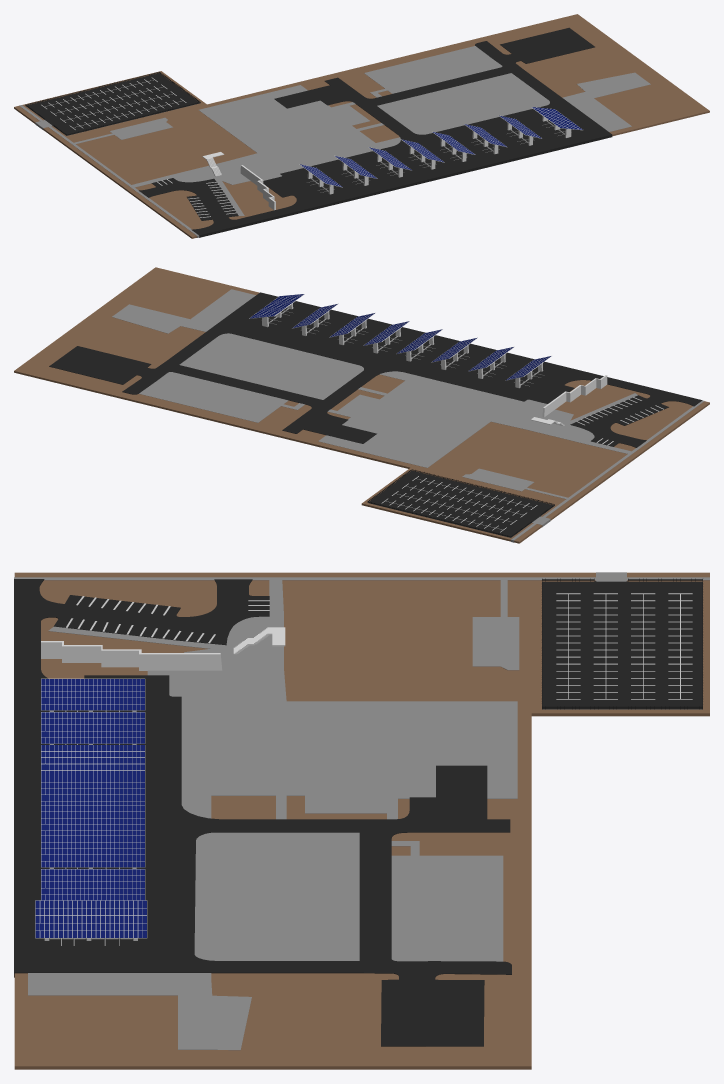
File: thebuilding.glb
3 renders of one model, top to bottom at view 1: azimuth 30°, elevation 25°; view 2: azimuth 150°, elevation 25°; view 3: azimuth 270°, elevation 25°, orthographic. The views are drawn at different scales.
Visible parts, largest first — view 1: sidewalk, gravel, parking, solarpanel, eastlines, solarparking, wall.001; view 2: sidewalk, gravel, parking, solarpanel, wall.001, eastlines, solarparking; view 3: sidewalk, gravel, parking, solarpanel, wall.001, eastlines.
Boxes of the visible parts, x1,y1,x2,y2 form: sidewalk: (19, 46, 650, 237); gravel: (14, 14, 709, 238); parking: (139, 27, 612, 237); solarpanel: (299, 107, 582, 194); eastlines: (41, 77, 186, 129); solarparking: (307, 120, 564, 192); wall.001: (240, 165, 275, 210); sidewalk: (112, 289, 704, 542); gravel: (14, 267, 709, 543); parking: (49, 292, 702, 447); solarpanel: (249, 294, 551, 388); wall.001: (542, 375, 607, 417); eastlines: (381, 476, 537, 532); solarparking: (268, 308, 544, 386); sidewalk: (14, 572, 709, 1050); gravel: (14, 572, 709, 1069); parking: (14, 579, 511, 1046); solarpanel: (35, 678, 147, 940); wall.001: (41, 641, 222, 670); eastlines: (556, 593, 692, 699).
Size of the model in its own units: 17.91 by 0.5486 by 10.67.
